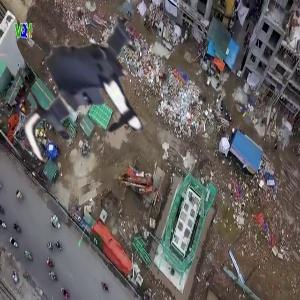drone: (3, 7, 174, 178)
